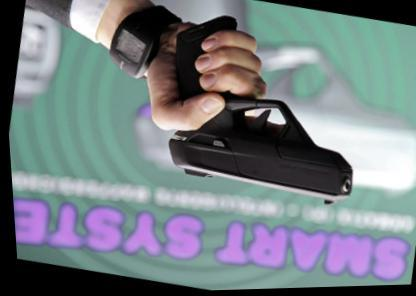pistol: (144, 1, 378, 219)
